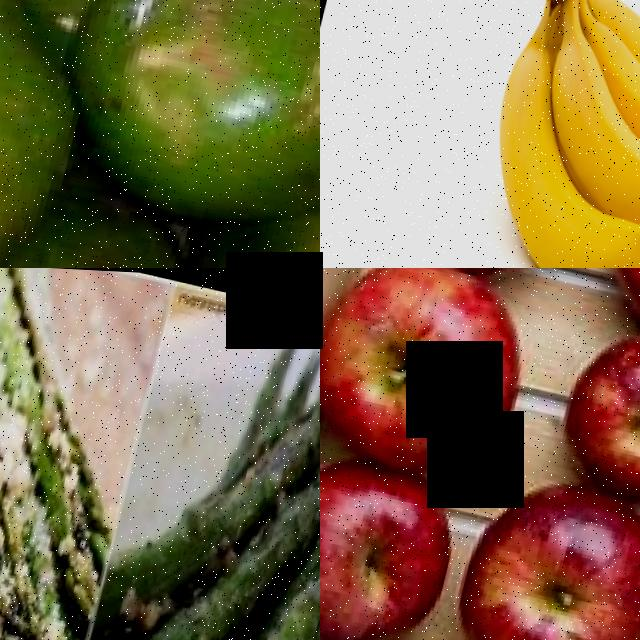apple: (320, 268, 547, 484), (441, 455, 640, 640), (320, 438, 478, 640), (554, 302, 640, 511)
avocado: (66, 0, 320, 253), (0, 0, 106, 268)
banana: (449, 0, 640, 268)
